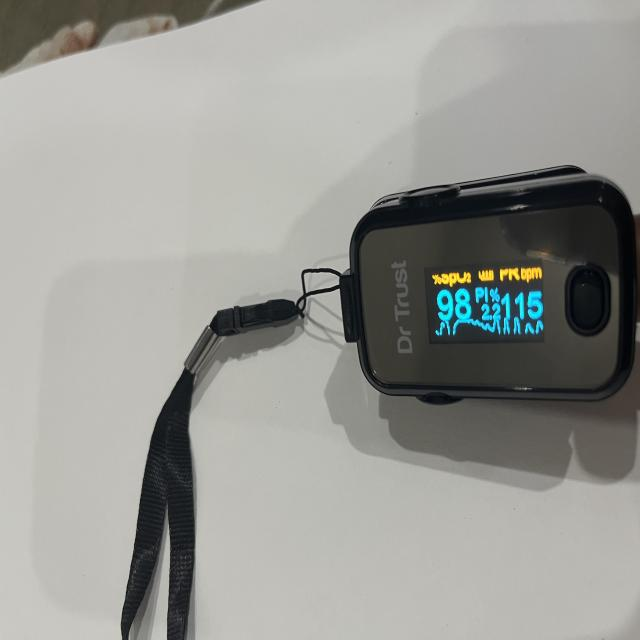spo2: (346, 168, 640, 404)
